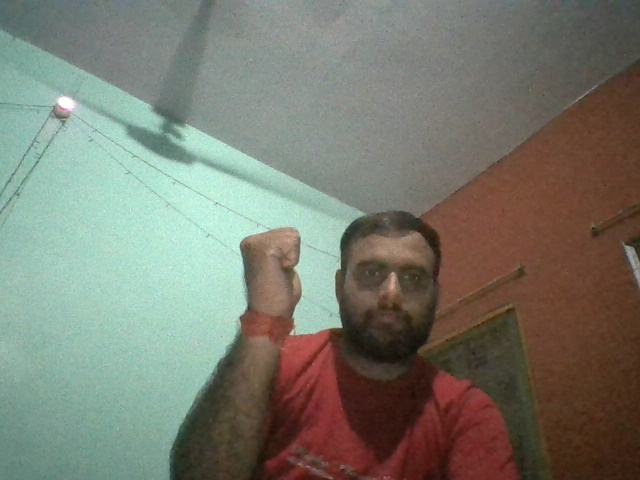goodbye: (237, 228, 303, 312)
